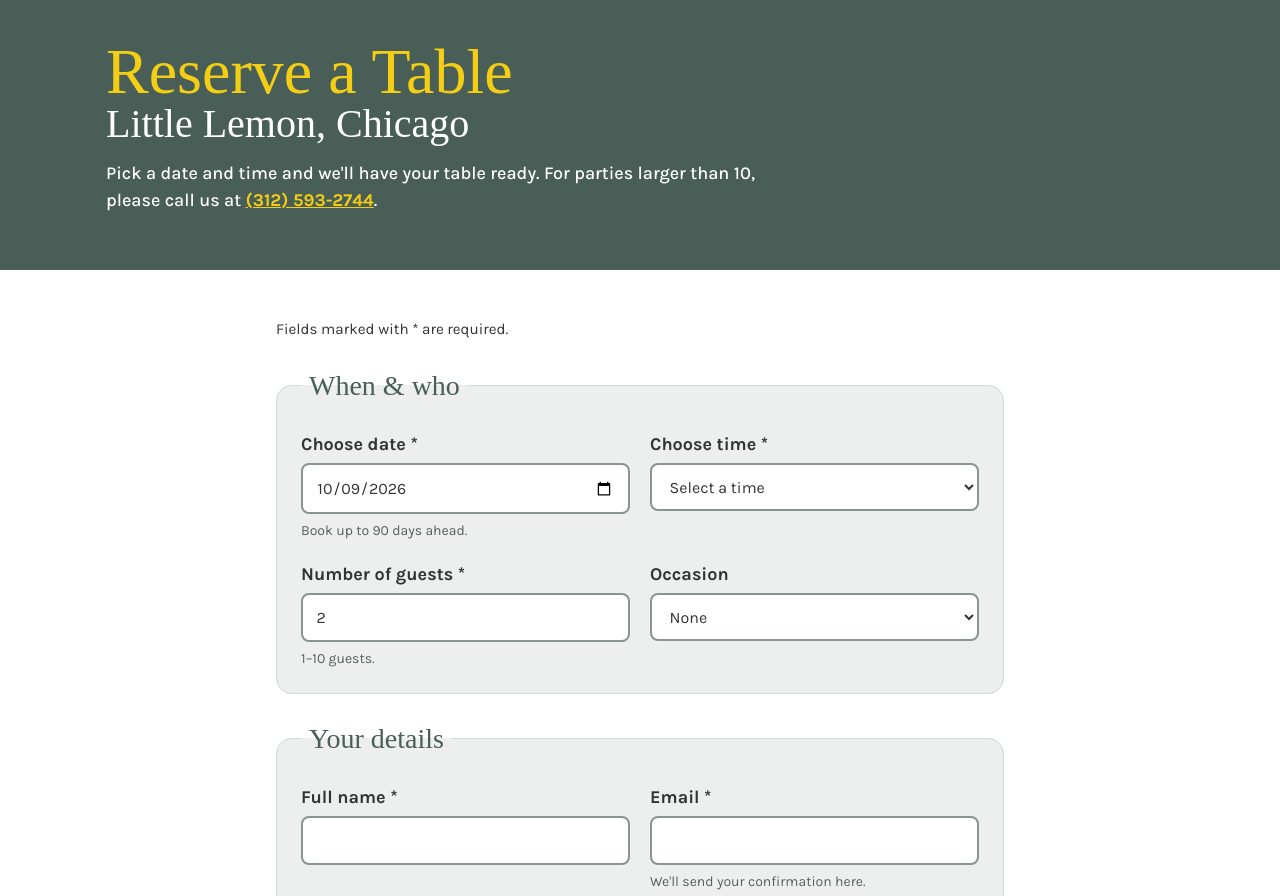
Test: BookingPage › shows a meaningful message when the API throws
Select "17:00" in the dropdown labelled "Choose time *". click: point(814, 487)
box: left=650, top=463, right=979, bottom=511
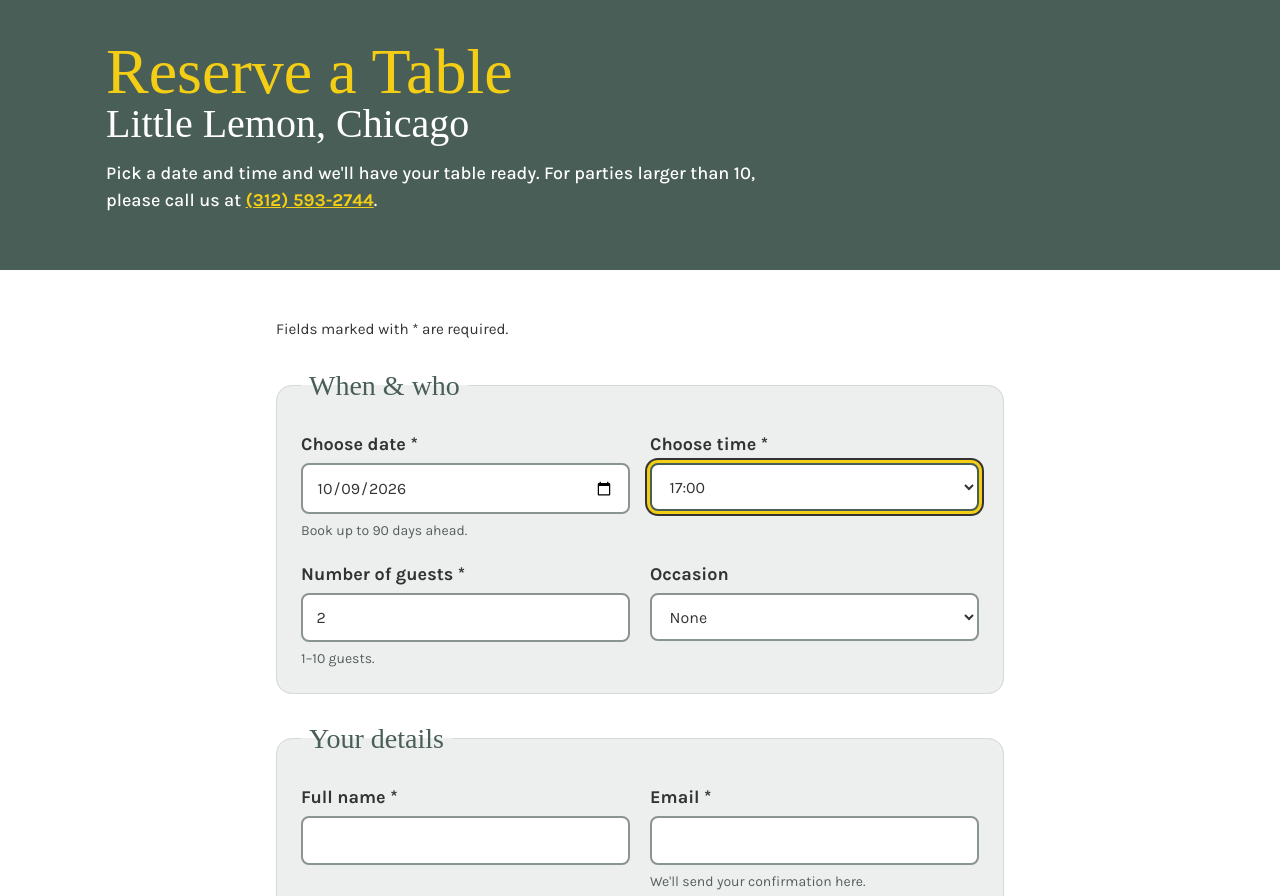
Type "Ada Lovelace" into the field labelled "Full name *". click: point(466, 841)
box: left=301, top=816, right=630, bottom=865
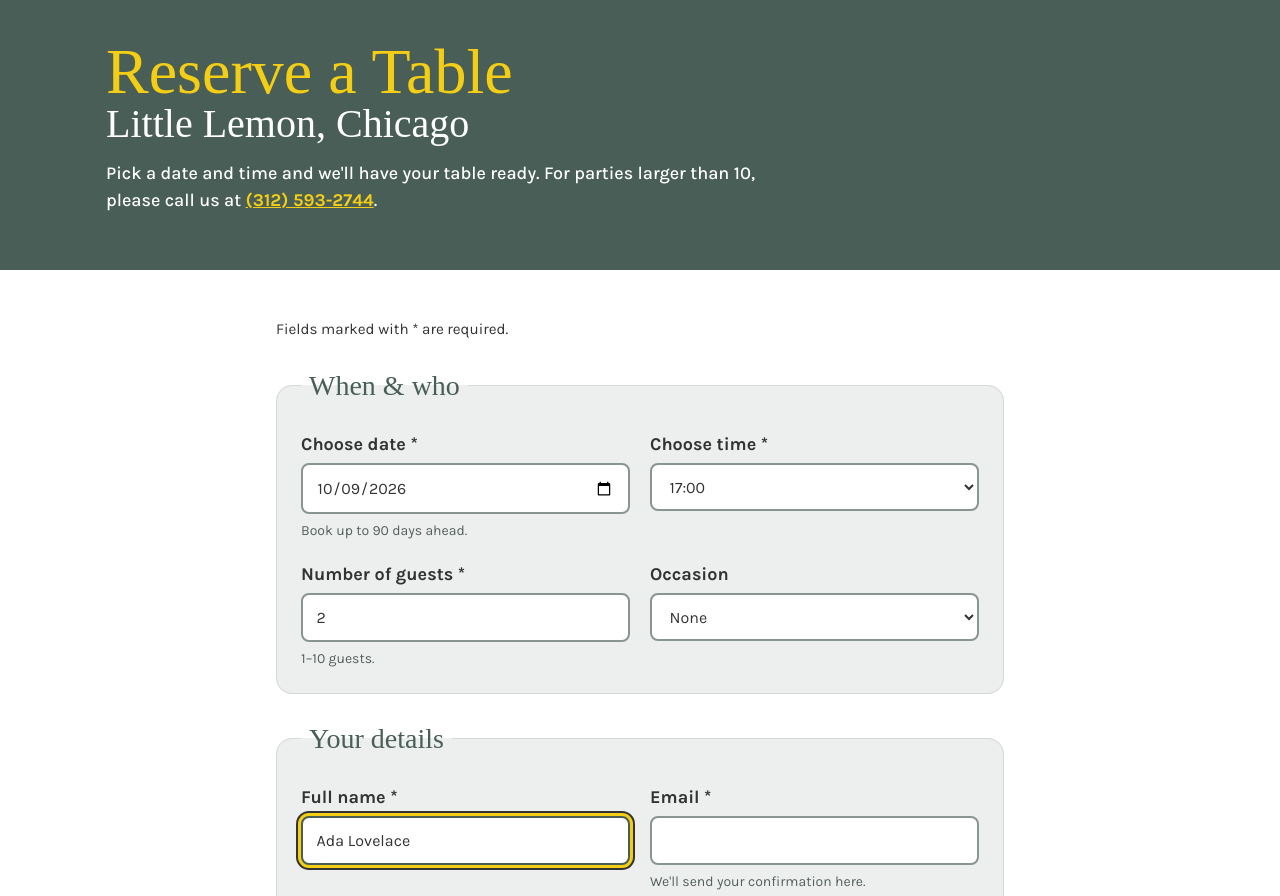
Type "ada@example.com" into the field labelled "Email *". click: point(814, 841)
box: left=650, top=816, right=979, bottom=865
(page scrolled)
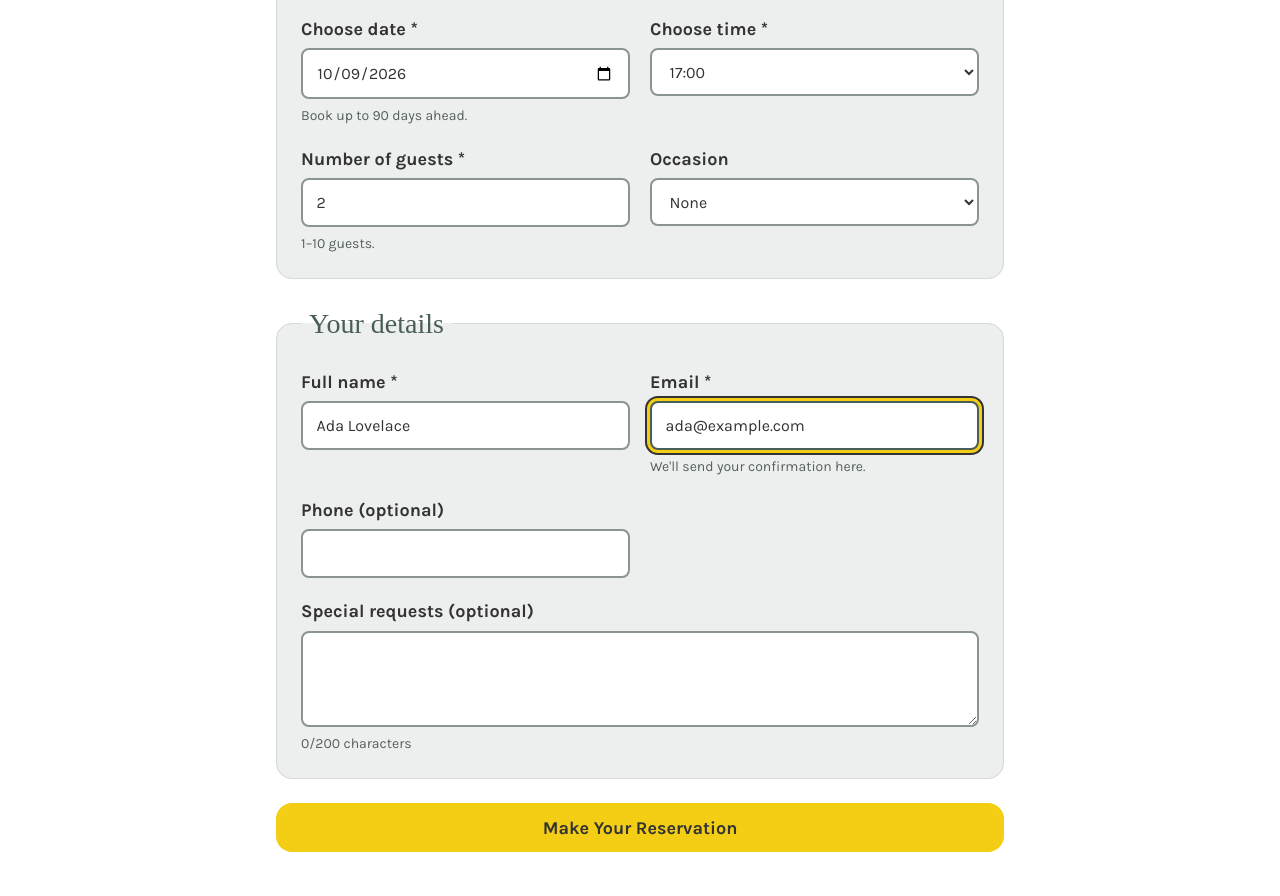
Click the button "Make Your Reservation". click: point(640, 828)
box: left=276, top=803, right=1004, bottom=852
(page scrolled)
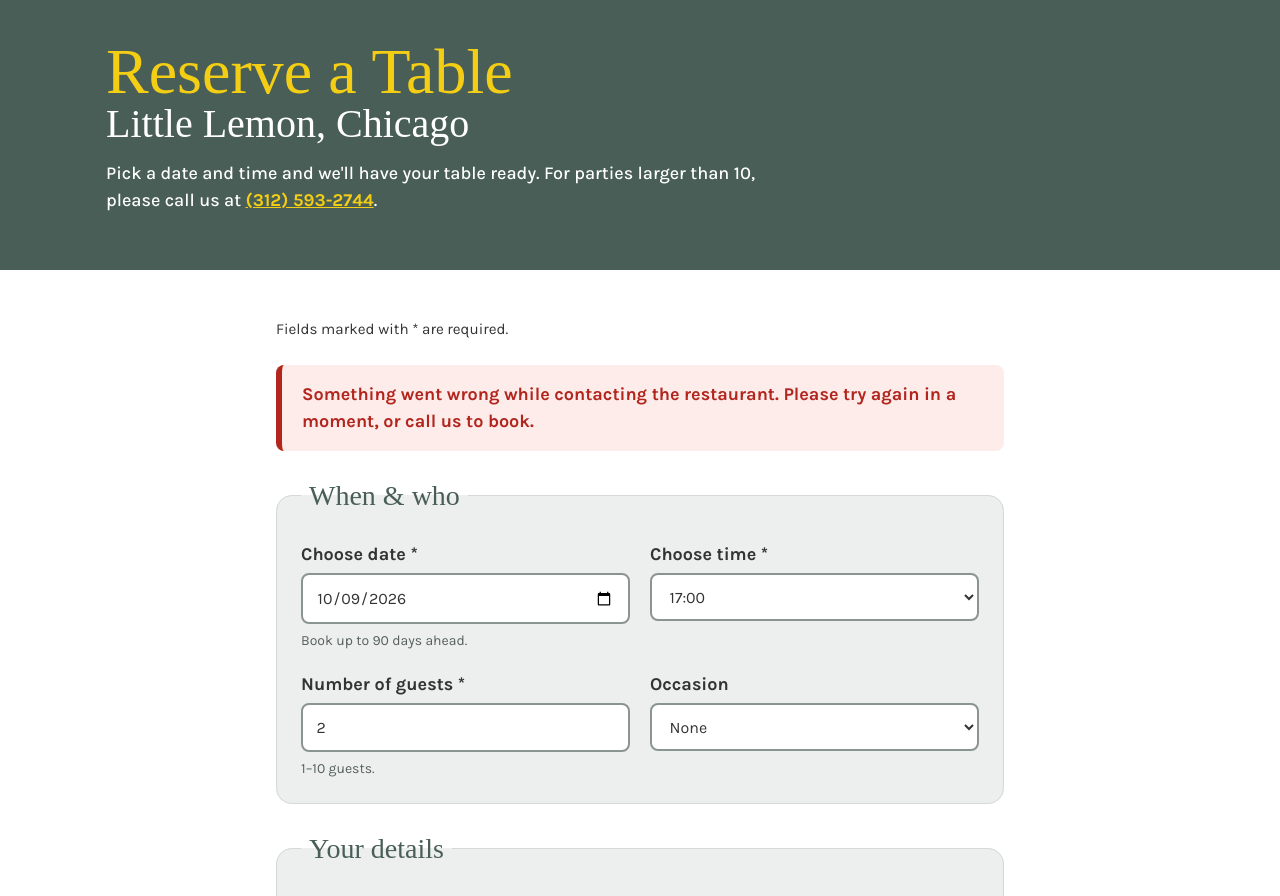
expect the text "Something went wrong while contacting the restaurant. Please try again in a moment, or call us to book." is shown: met, box left=302, top=383, right=956, bottom=432
